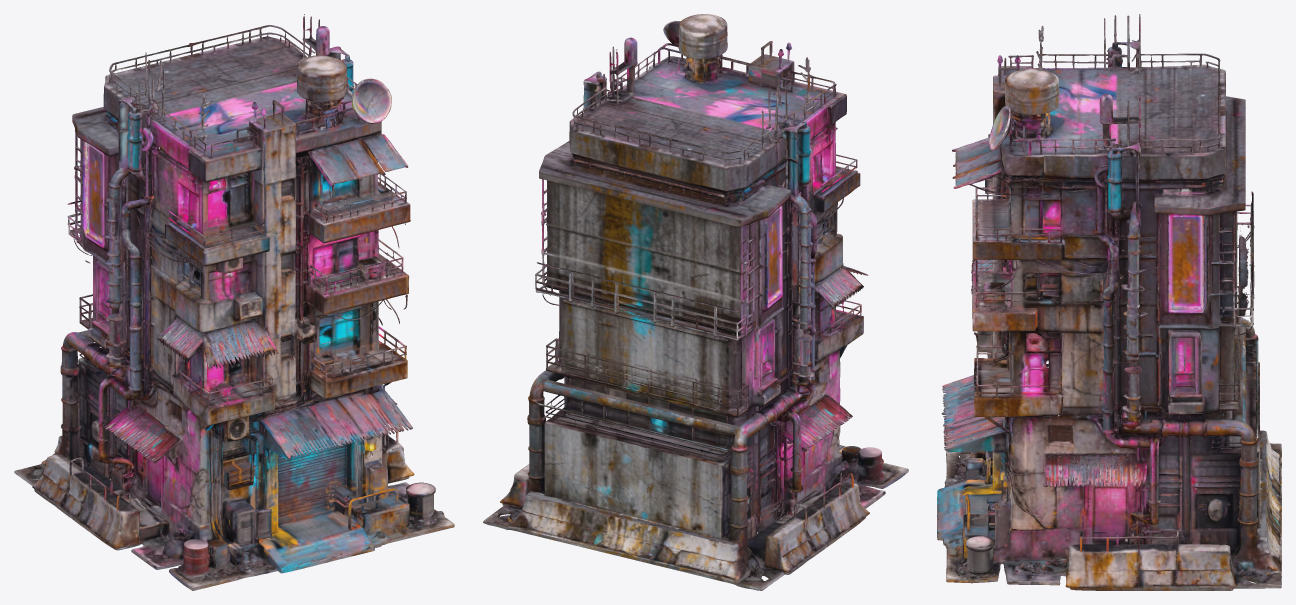
File: cyberpunk_building_2.glb
The picture shows the model from 3 angles, left to right: view 1: azimuth 30°, elevation 25°; view 2: azimuth 150°, elevation 25°; view 3: azimuth 270°, elevation 25°; orthographic projection. The views are drawn at different scales.
Parts seen in each view (by area): view 1: world; view 2: world; view 3: world.
Part boxes in pixels (x1=…): world: x1=14, y1=14, x2=454, y2=590; world: x1=483, y1=14, x2=908, y2=590; world: x1=937, y1=14, x2=1281, y2=590.
Size of the model in its own units: 1.36 by 1.99 by 1.34.
Materials: 1 (1 with a texture image).
